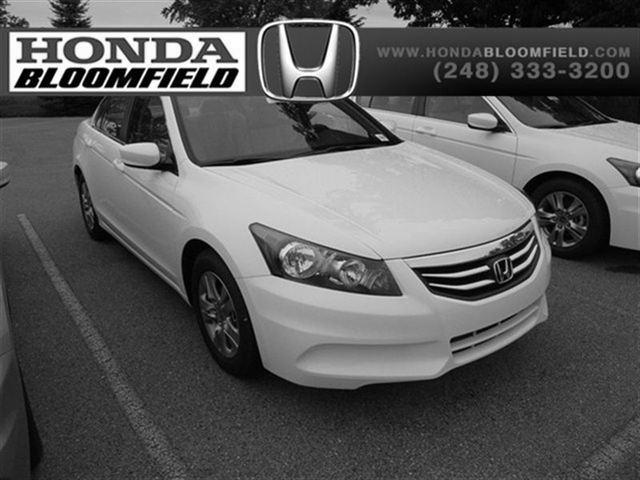car: (73, 69, 552, 393)
